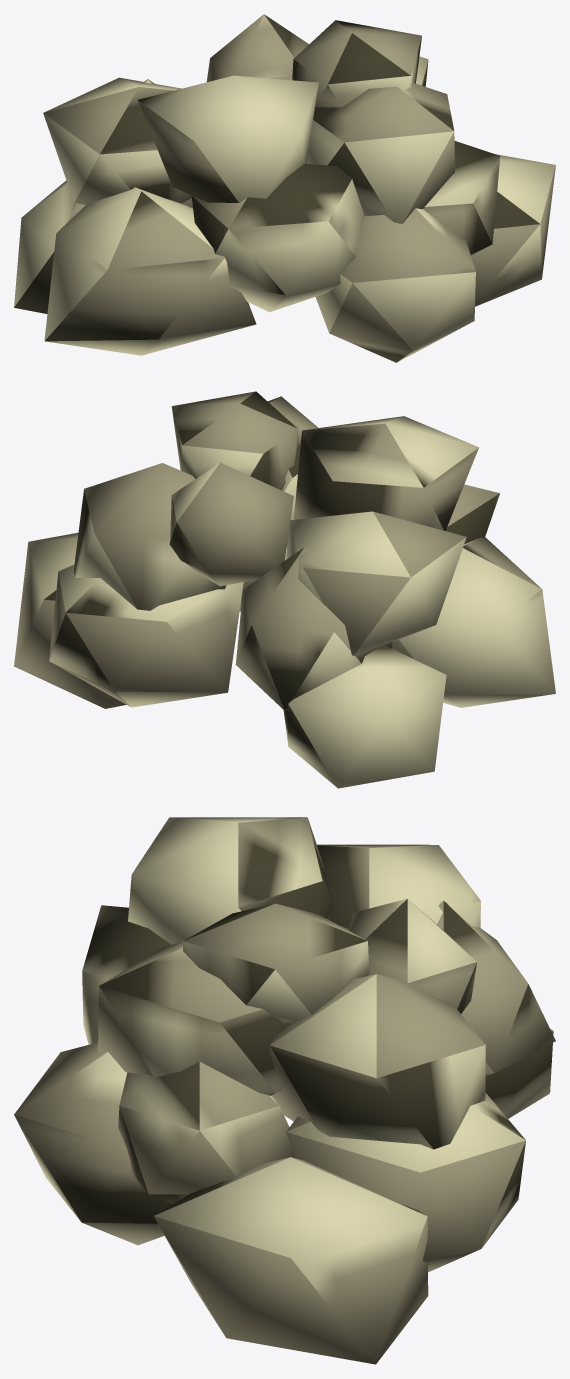
File: bush_v1.fbx
3 renders of one model, top to bottom at view 1: azimuth 30°, elevation 25°; view 2: azimuth 150°, elevation 25°; view 3: azimuth 270°, elevation 25°, orthographic. The views are drawn at different scales.
Visible parts, largest first — view 1: prop; view 2: prop; view 3: prop.
Boxes of the visible parts, <box> form: prop: <box>14,14,555,362</box>; prop: <box>14,391,555,788</box>; prop: <box>14,817,555,1364</box>.
Bounding box in the file's own units: 1.21 × 0.6623 × 0.8821.
